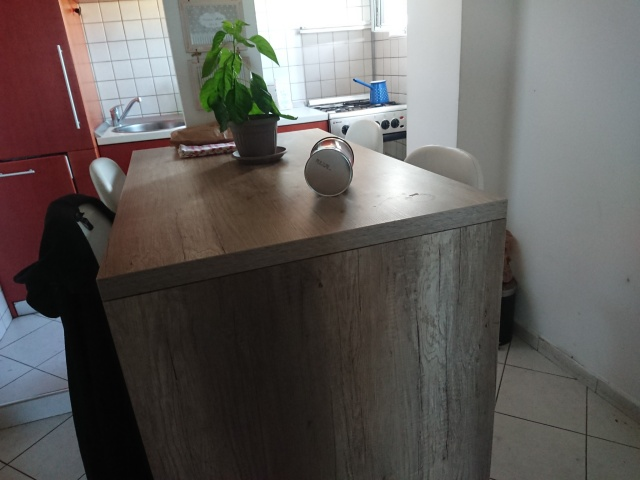Nescafe Classic 225g: (301, 134, 357, 200)
